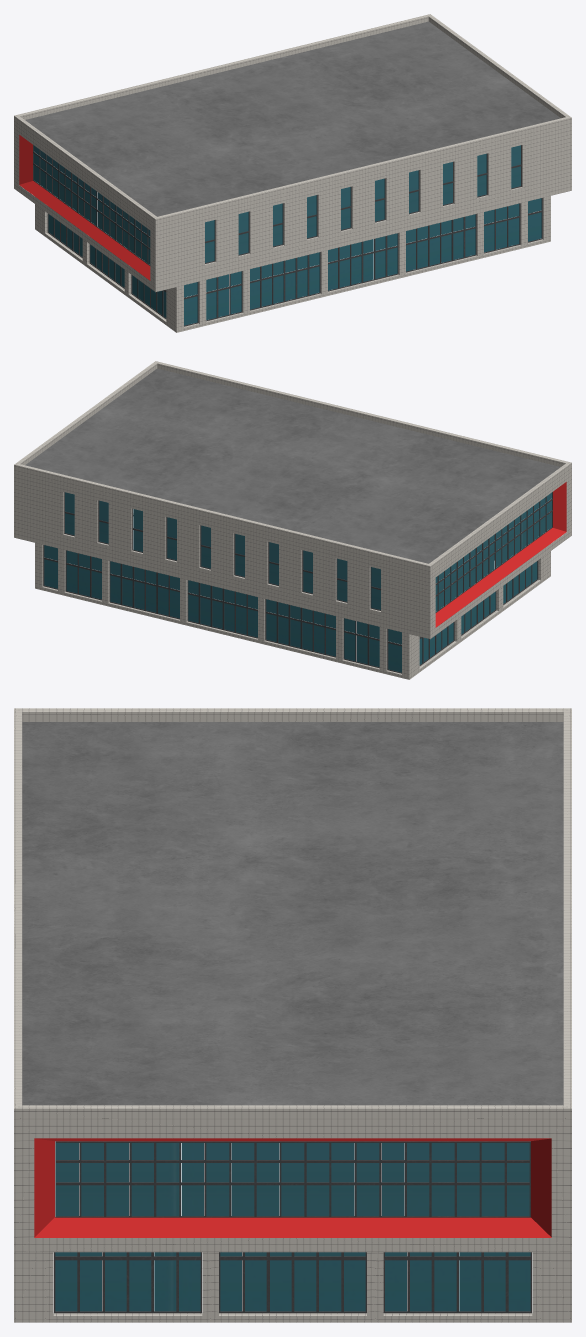
3 views of the same model, one above another, from view 1: azimuth 30°, elevation 25°; view 2: azimuth 150°, elevation 25°; view 3: azimuth 270°, elevation 25° (orthographic). The views are drawn at different scales.
Parts seen in each view (by area): view 1: 食堂01, 食堂00, 食堂03, 食堂02, 食堂04; view 2: 食堂01, 食堂00, 食堂03, 食堂02, 食堂04; view 3: 食堂01, 食堂00, 食堂03, 食堂04, 食堂02.
Boxes of the visible parts, bbox=[...] form: 食堂01: bbox=[25, 21, 560, 216]; 食堂00: bbox=[14, 14, 571, 332]; 食堂03: bbox=[34, 145, 541, 325]; 食堂02: bbox=[33, 145, 542, 326]; 食堂04: bbox=[19, 135, 150, 280]; 食堂01: bbox=[25, 368, 560, 563]; 食堂00: bbox=[14, 361, 571, 679]; 食堂03: bbox=[44, 492, 551, 672]; 食堂02: bbox=[43, 492, 552, 673]; 食堂04: bbox=[435, 482, 566, 627]; 食堂01: bbox=[22, 722, 563, 1105]; 食堂00: bbox=[14, 708, 571, 1322]; 食堂03: bbox=[55, 1143, 530, 1311]; 食堂04: bbox=[34, 1138, 551, 1237]; 食堂02: bbox=[54, 1141, 531, 1313].
Size of the model in its own units: 34.86 by 9.5 by 20.54.
Materials: 5 (4 with a texture image).
